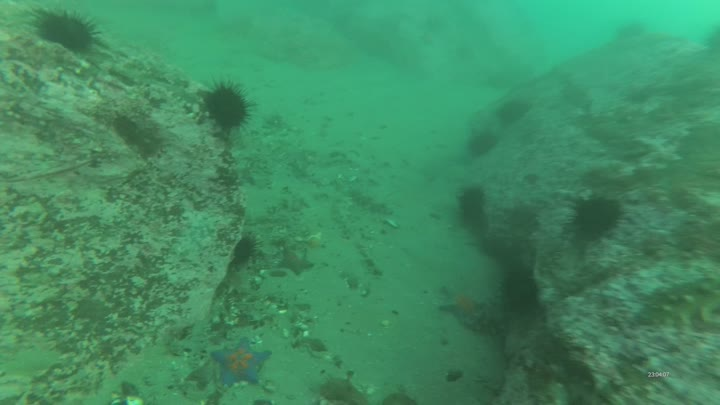echinus: (201, 72, 260, 134), (30, 6, 105, 54), (565, 196, 635, 237), (495, 269, 546, 318), (455, 186, 489, 227), (232, 233, 266, 267), (495, 100, 534, 127), (467, 130, 500, 159)
holothurian: (635, 277, 720, 329), (342, 185, 396, 218), (333, 196, 355, 226)
starfish: (211, 337, 276, 389), (437, 283, 492, 326), (277, 246, 316, 277)
